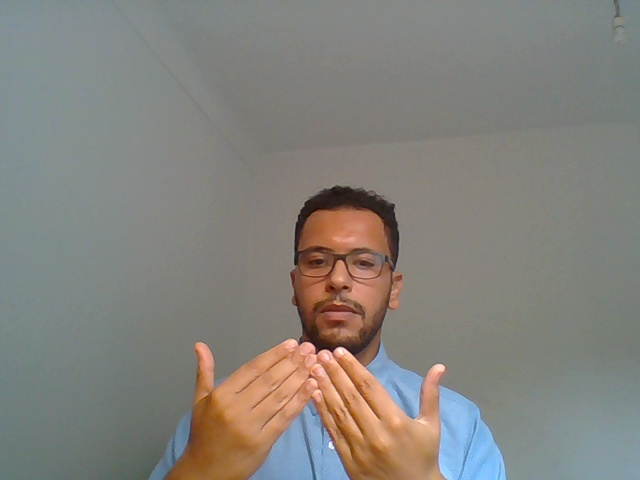thanks: (141, 332, 496, 480)
